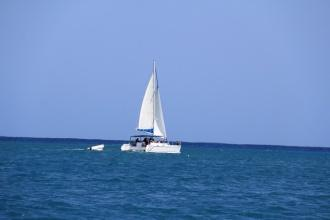fanchuan: (119, 58, 186, 153)
